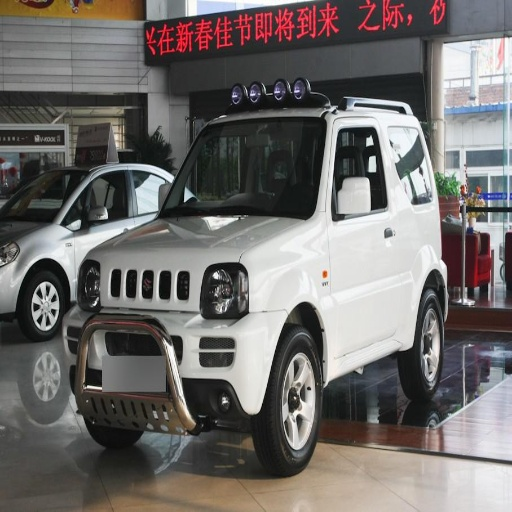front_bumper: (208, 317, 284, 405)
front_glass: (165, 118, 326, 218)
front_left_door: (333, 127, 392, 359), (66, 170, 127, 292)
trunk: (89, 312, 171, 368)
